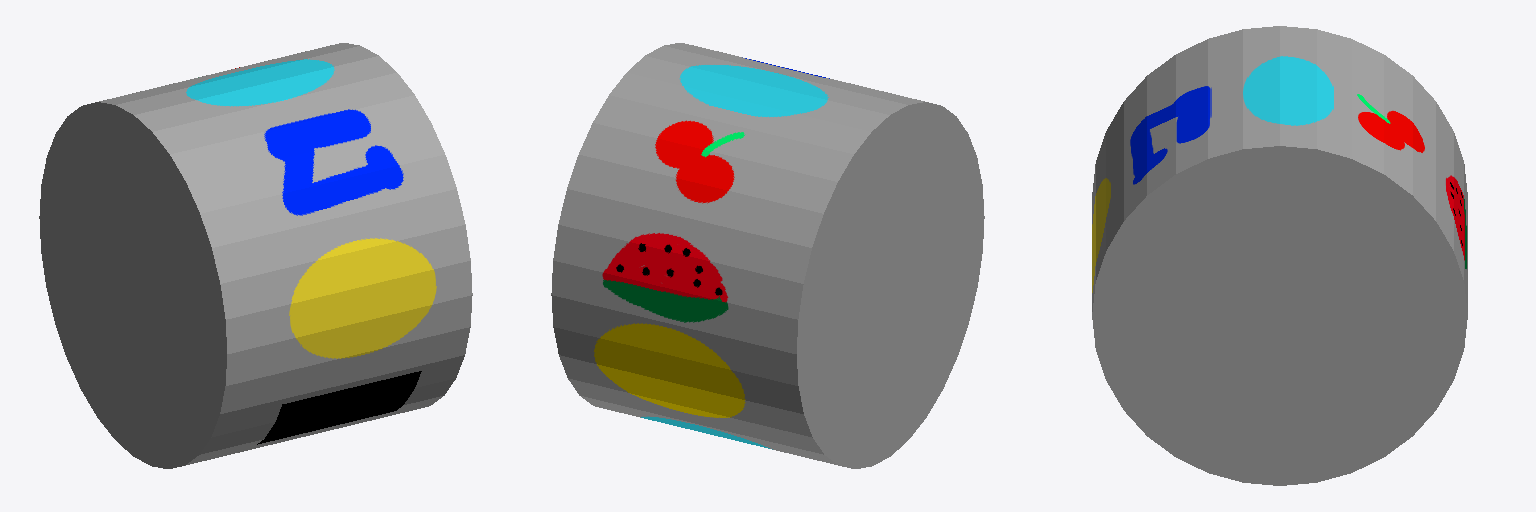
The picture shows the model from 3 angles: view 1: azimuth 30°, elevation 25°; view 2: azimuth 150°, elevation 25°; view 3: azimuth 270°, elevation 25°; orthographic projection.
Parts seen in each view (by area): view 1: 円柱; view 2: 円柱; view 3: 円柱.
Part boxes in pixels (x1,y1,x2,y2): 円柱: (39,43,472,468); 円柱: (551,43,984,468); 円柱: (1092,26,1467,485).
Bounding box in the file's own units: 4.02 × 5.31 × 5.31.
1 materials, 1 textured.